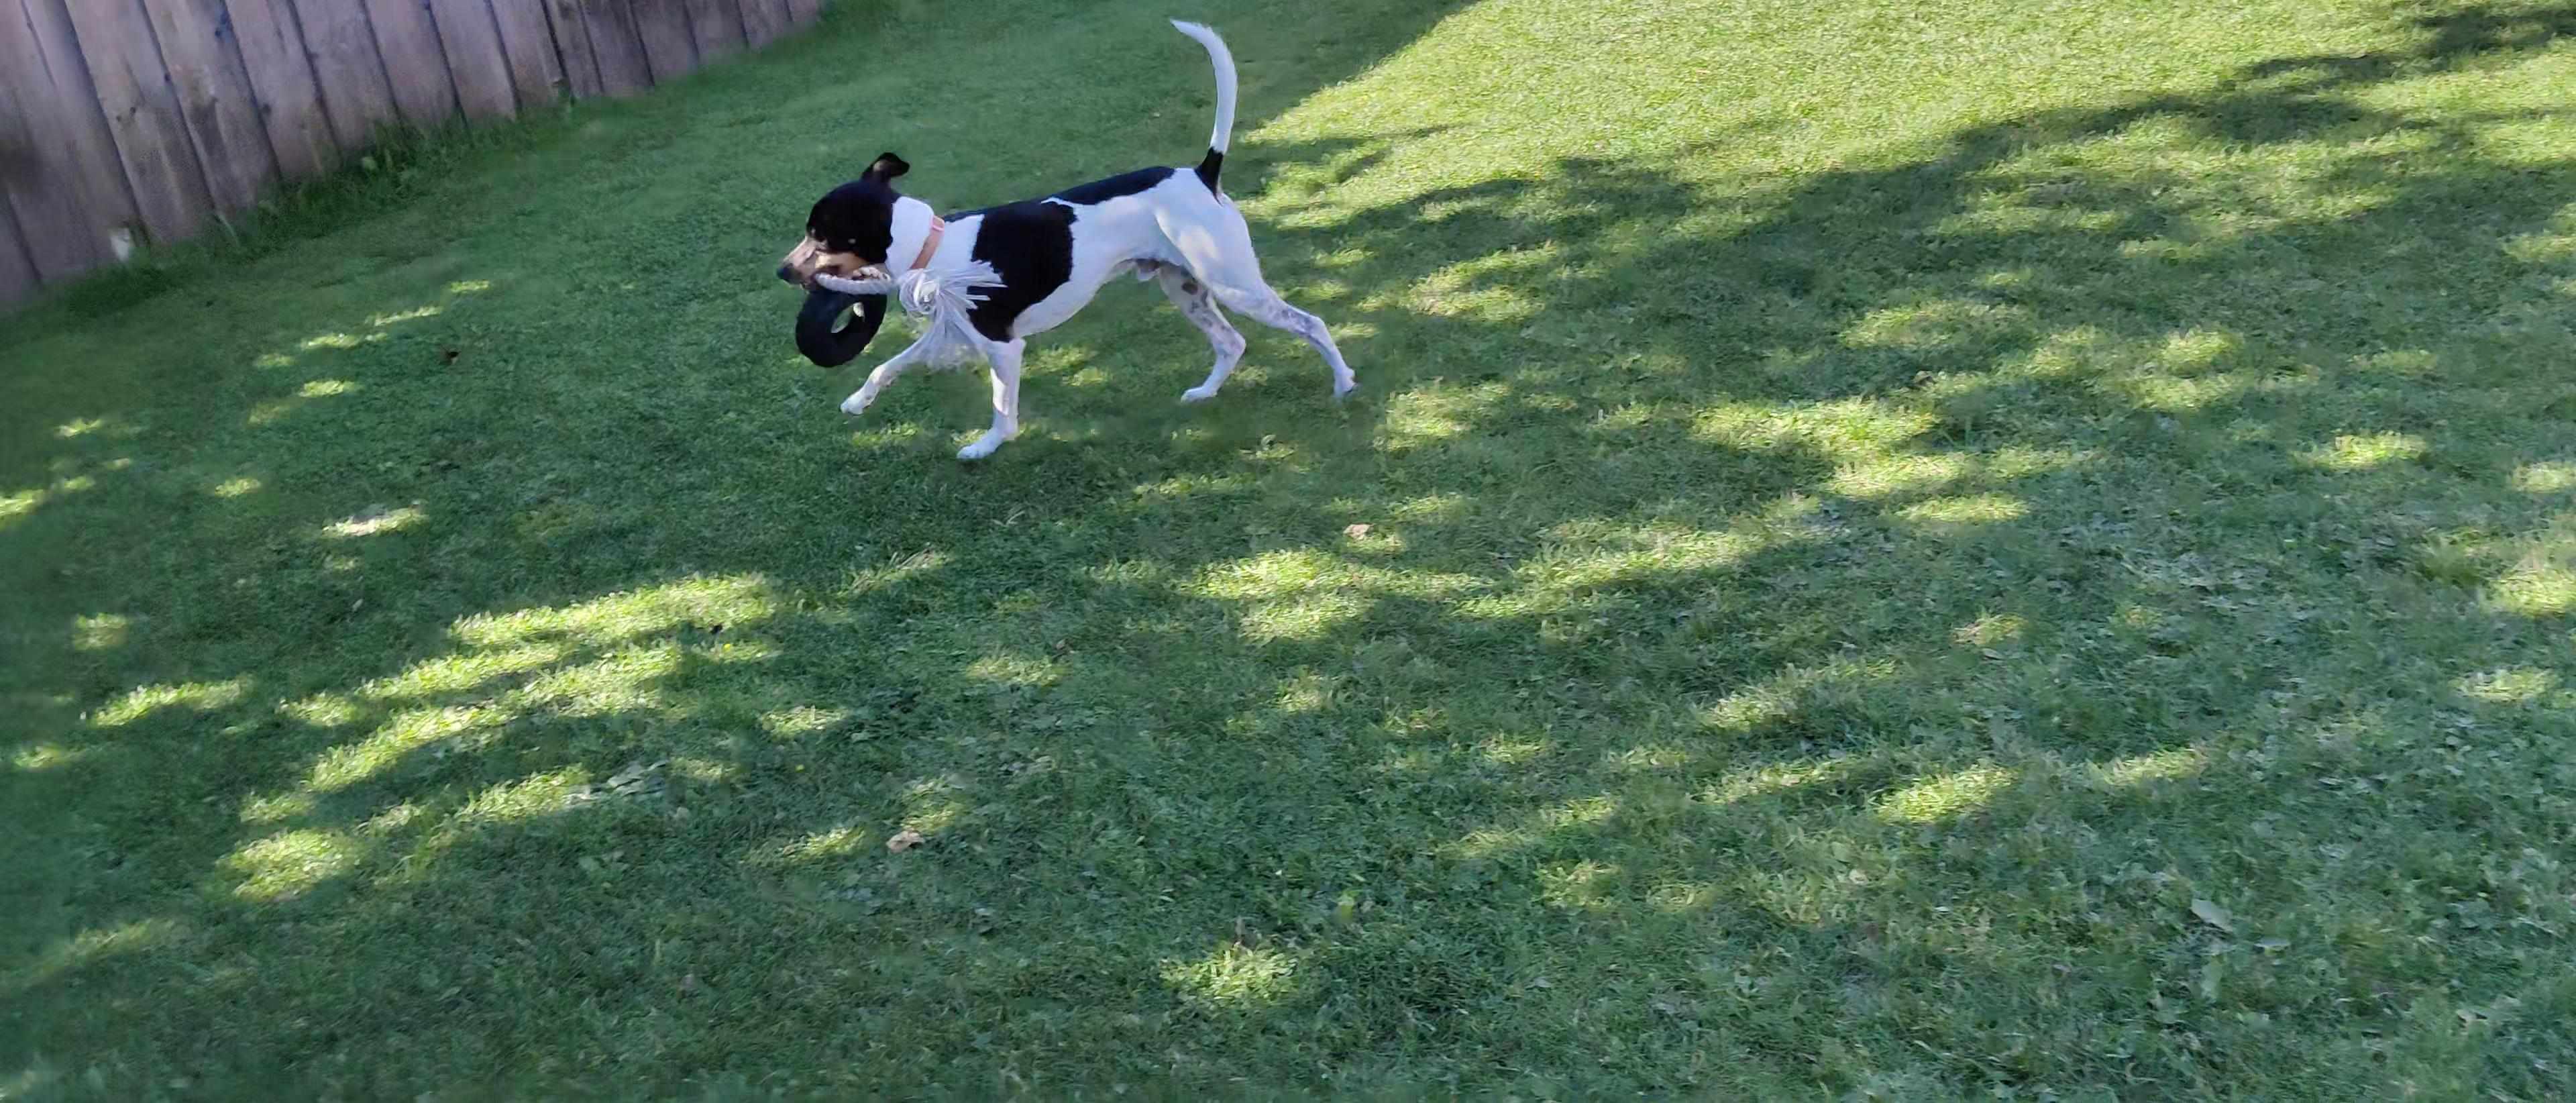Dog: (772, 15, 1364, 465)
